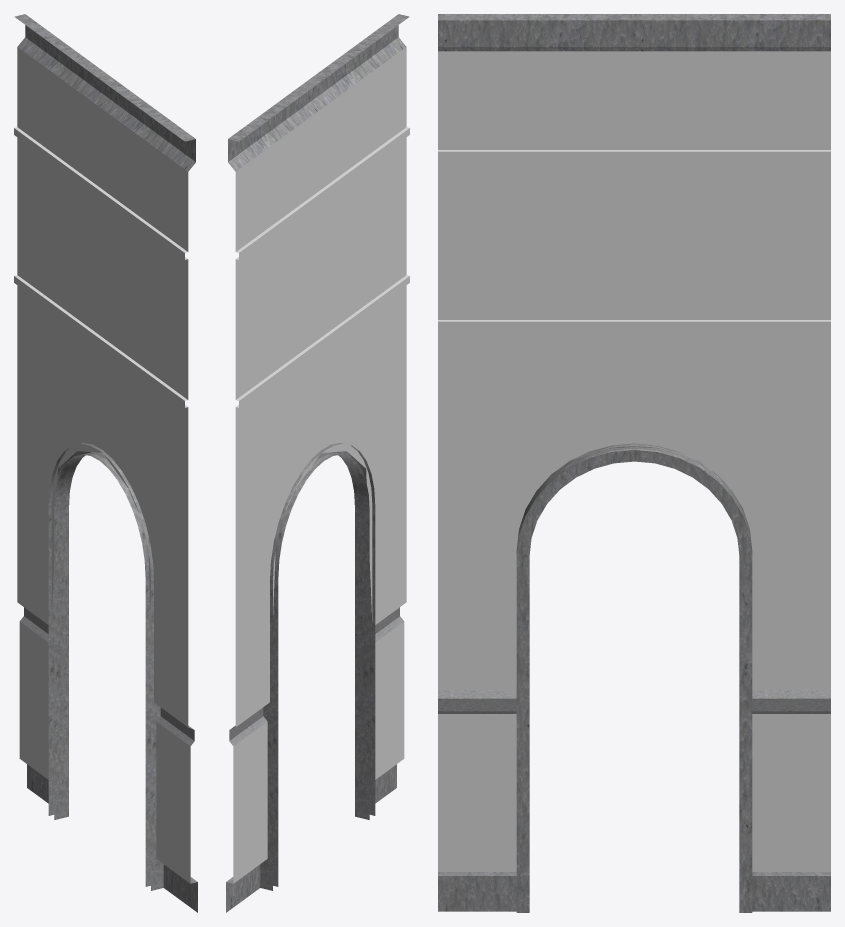
File: P_Doorway.fbx
3 renders of one model, left to right at view 1: azimuth 30°, elevation 25°; view 2: azimuth 150°, elevation 25°; view 3: azimuth 270°, elevation 25°, orthographic. The views are drawn at different scales.
Visible parts, largest first — view 1: P_Doorway.003; view 2: P_Doorway.003; view 3: P_Doorway.003.
Part boxes in pixels (x1,y1,x2,y2): P_Doorway.003: (14,14,197,912); P_Doorway.003: (226,14,409,912); P_Doorway.003: (438,14,830,912).
Size of the model in its own units: 20.52 by 1000 by 400.
